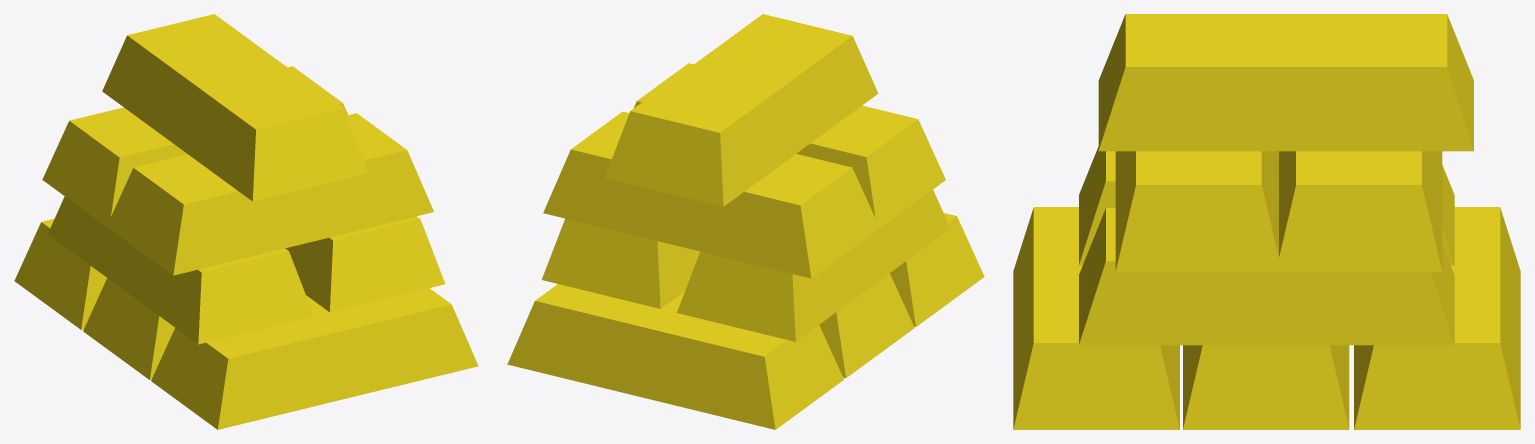
File: SM_Collection_06.fbx
The picture shows the model from 3 angles, left to right: view 1: azimuth 30°, elevation 25°; view 2: azimuth 150°, elevation 25°; view 3: azimuth 270°, elevation 25°; orthographic projection. The views are drawn at different scales.
Visible parts, largest first — view 1: SM_Gold_03; view 2: SM_Gold_03; view 3: SM_Gold_03.
Boxes of the visible parts, x1,y1,x2,y2 form: SM_Gold_03: (14, 14, 478, 429); SM_Gold_03: (507, 14, 984, 429); SM_Gold_03: (1013, 14, 1520, 429).
Bounding box in the file's own units: 42.07 × 37.56 × 56.08.
